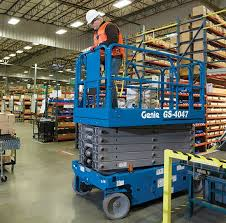Scissor Lift: (71, 43, 207, 220)
